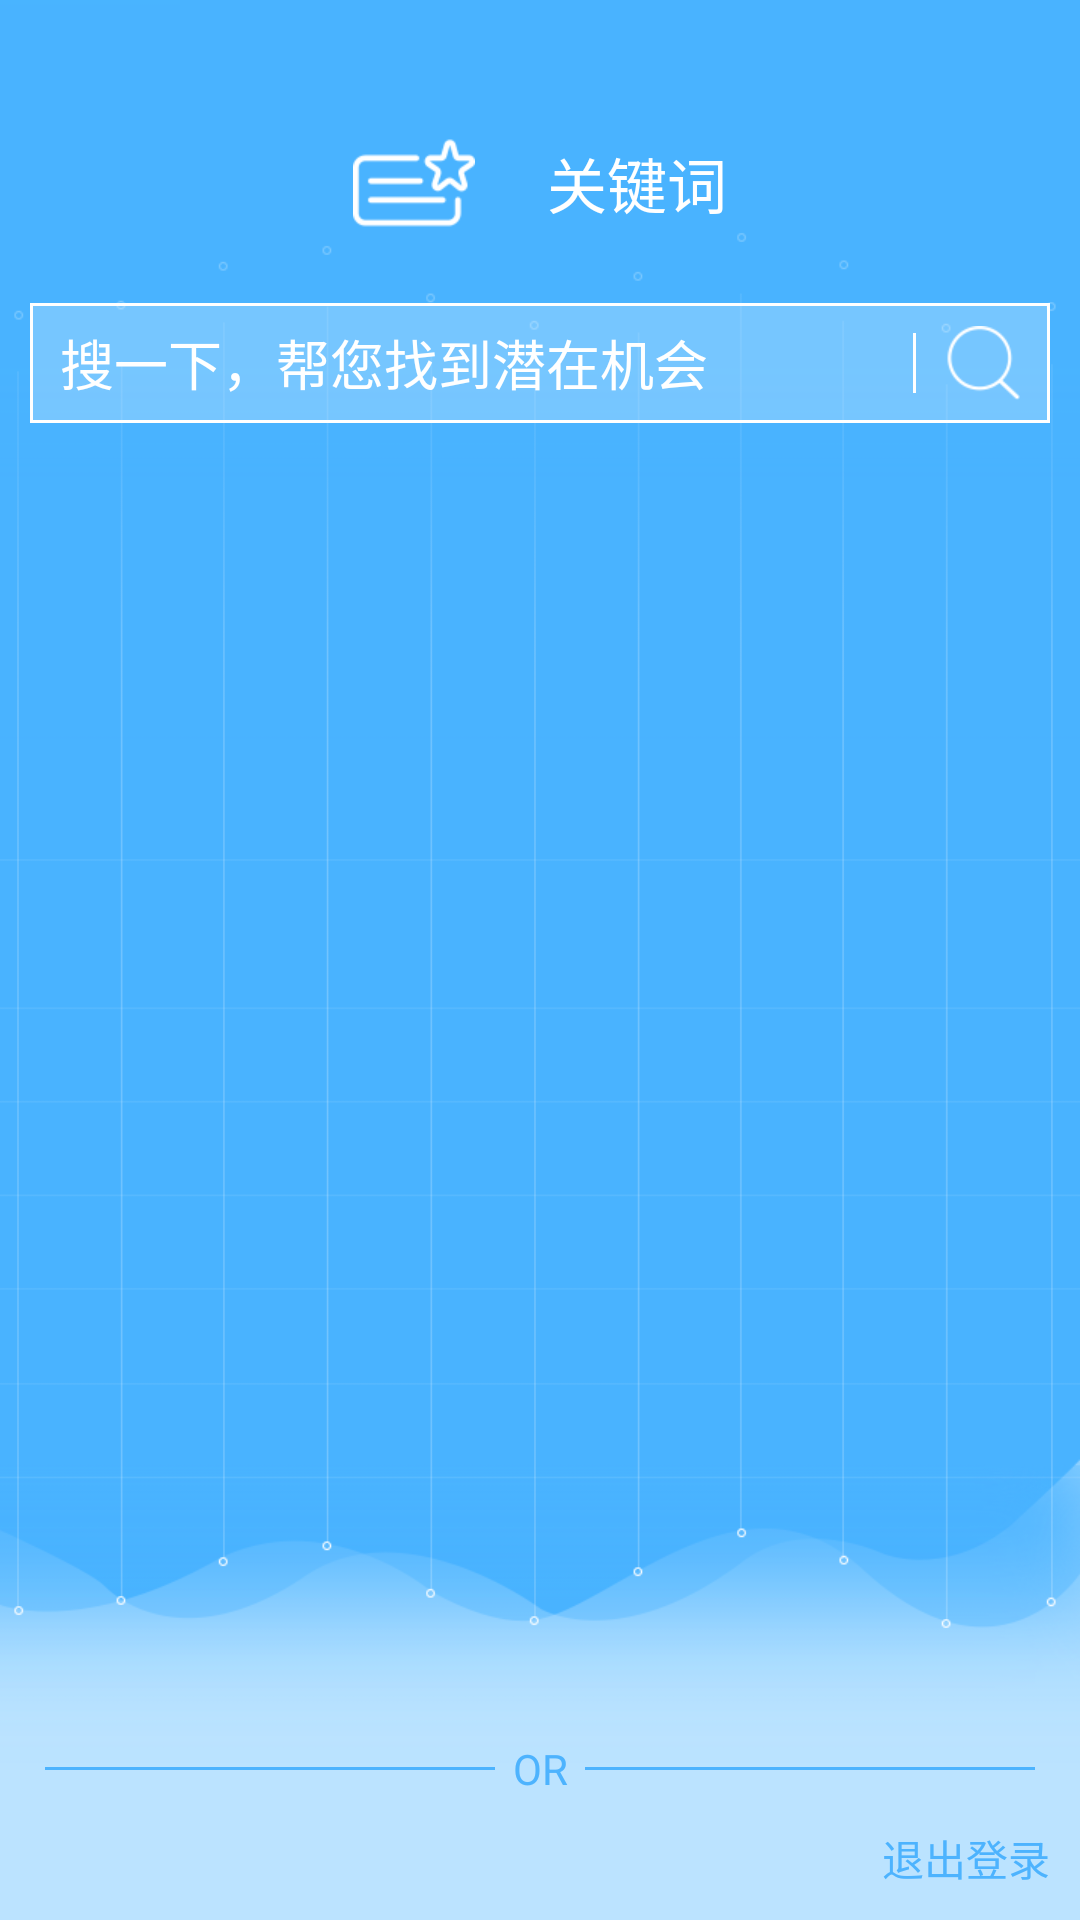

Where to tap for icons on this 1080px x 1920px app screen, as point (x, y):
search ss: point (983, 363)
